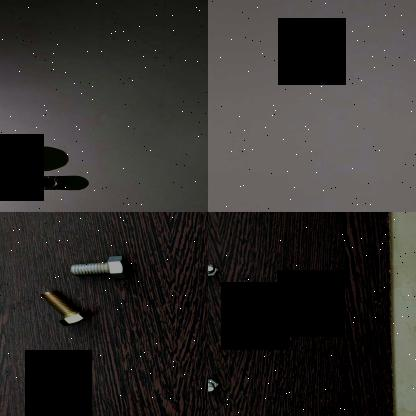Bolts: (65, 252, 131, 286), (39, 288, 96, 326), (208, 372, 224, 394), (208, 261, 218, 279)
NUTS: (0, 145, 29, 171), (34, 170, 66, 193)
